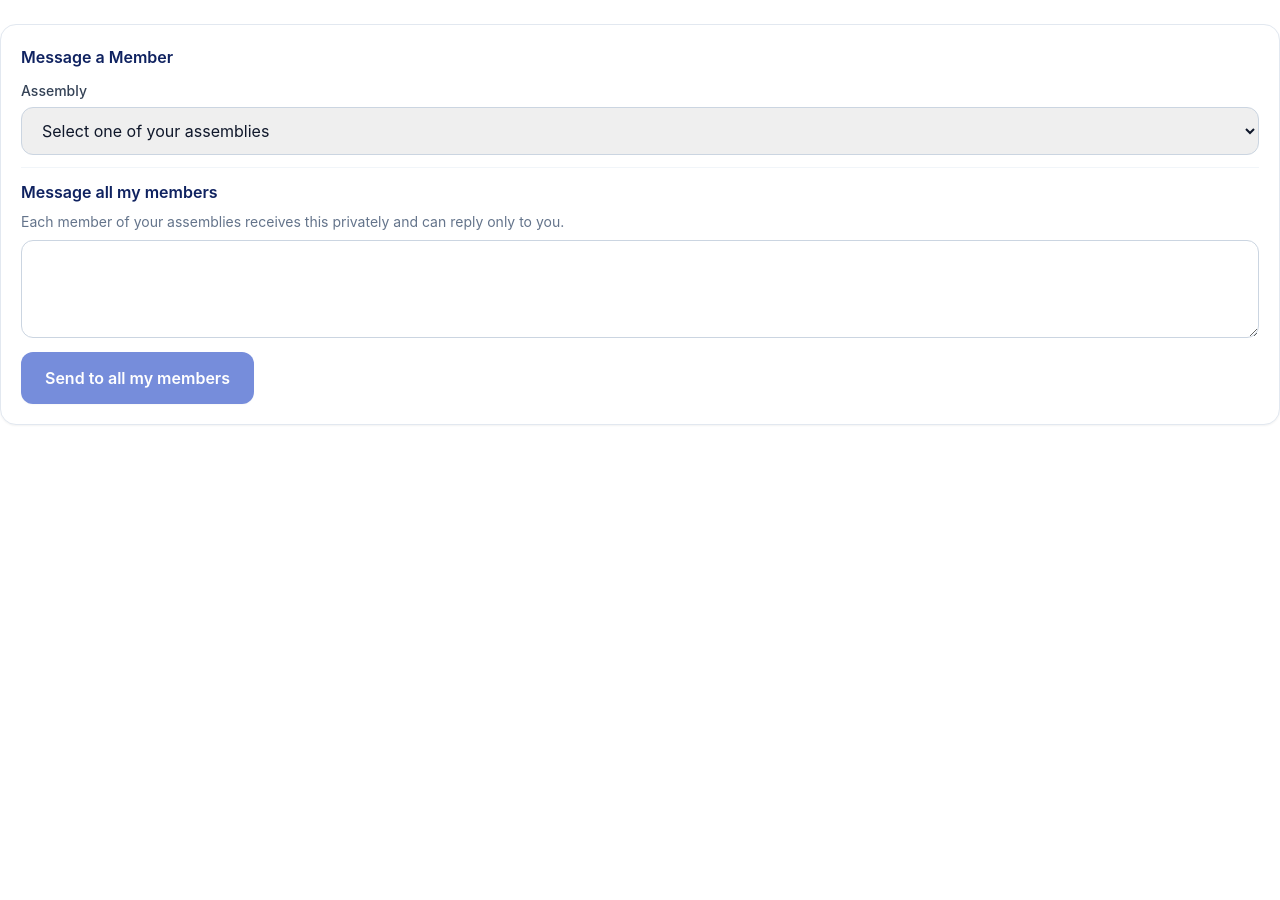
StartPrivateMessage (Leader compose action) › sends the message to the selected recipient via /api/leader/private-messages/conversations
This screenshot has width=1280, height=900.
Later steps or results of the test are not shown.
Select "Youth Ministry" in the dropdown at {"x": 640, "y": 131}, box [21, 107, 1259, 155]
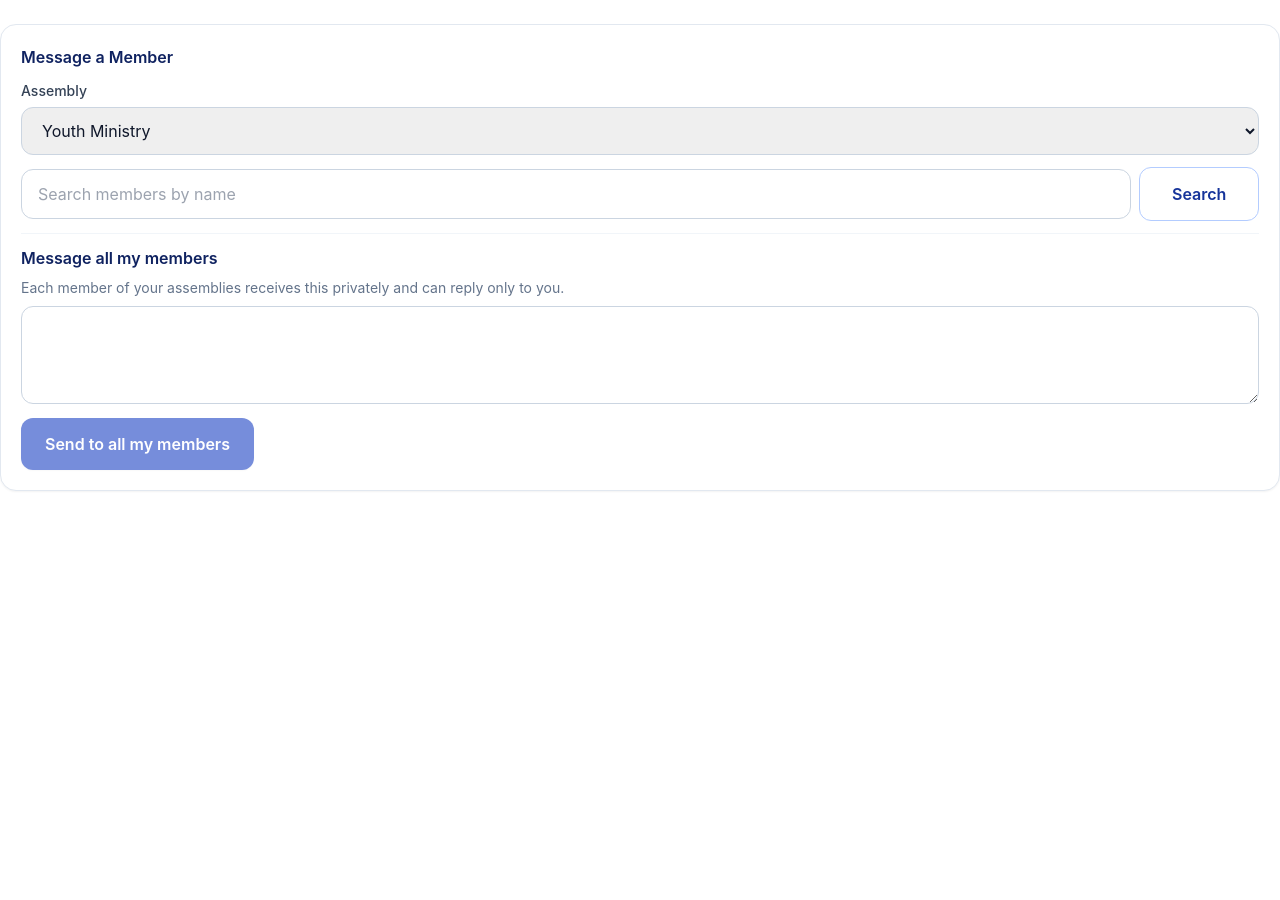
Type "Grace" into the field with placeholder "Search members by name".
click(576, 194); type("Grace")  # box [21, 169, 1131, 219]
Click the button "Search".
click(1199, 194)  # box [1139, 167, 1259, 221]
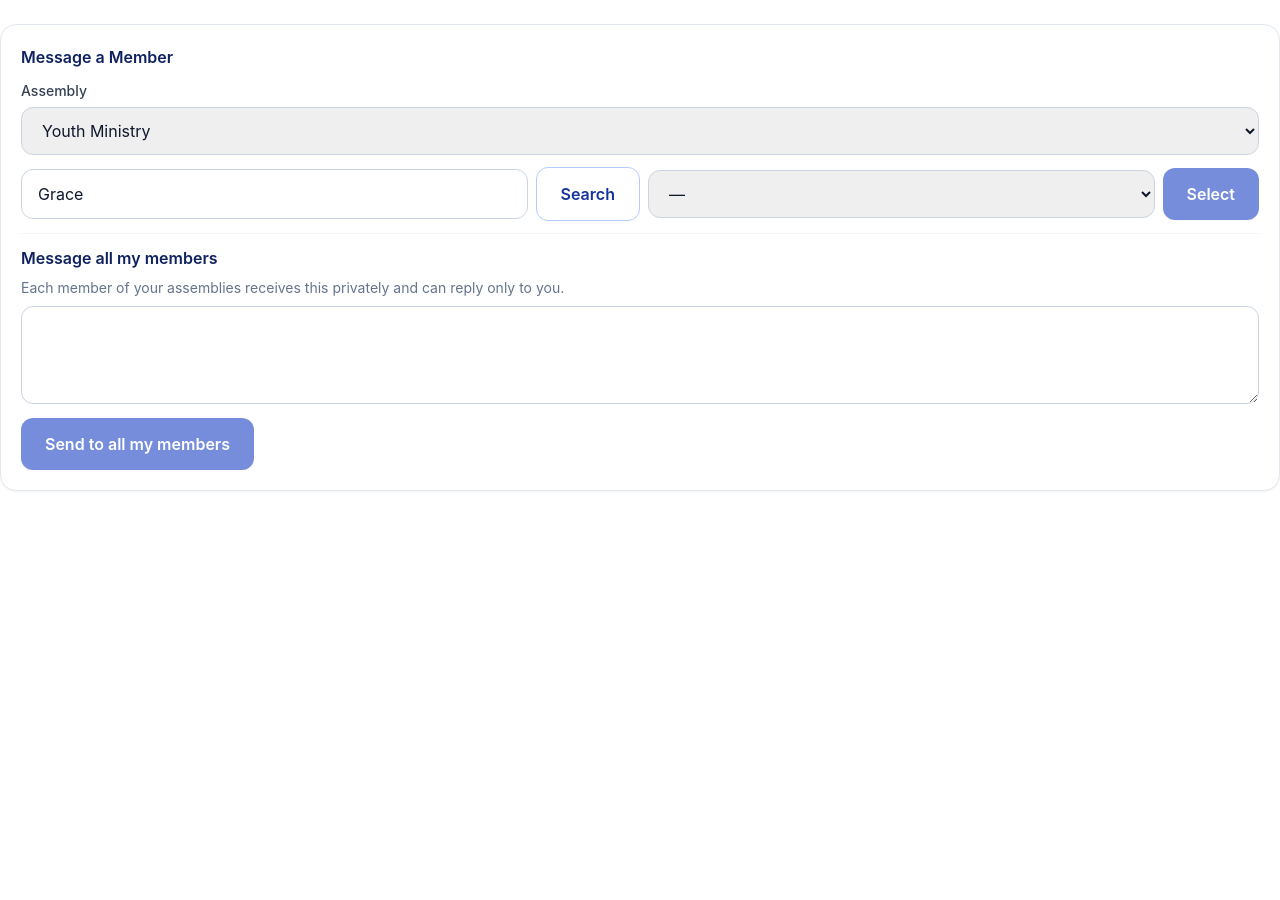
Now the number of dropdowns is 2
Select "Grace Doe" in the 2nd dropdown at {"x": 901, "y": 194}, box [648, 170, 1154, 218]
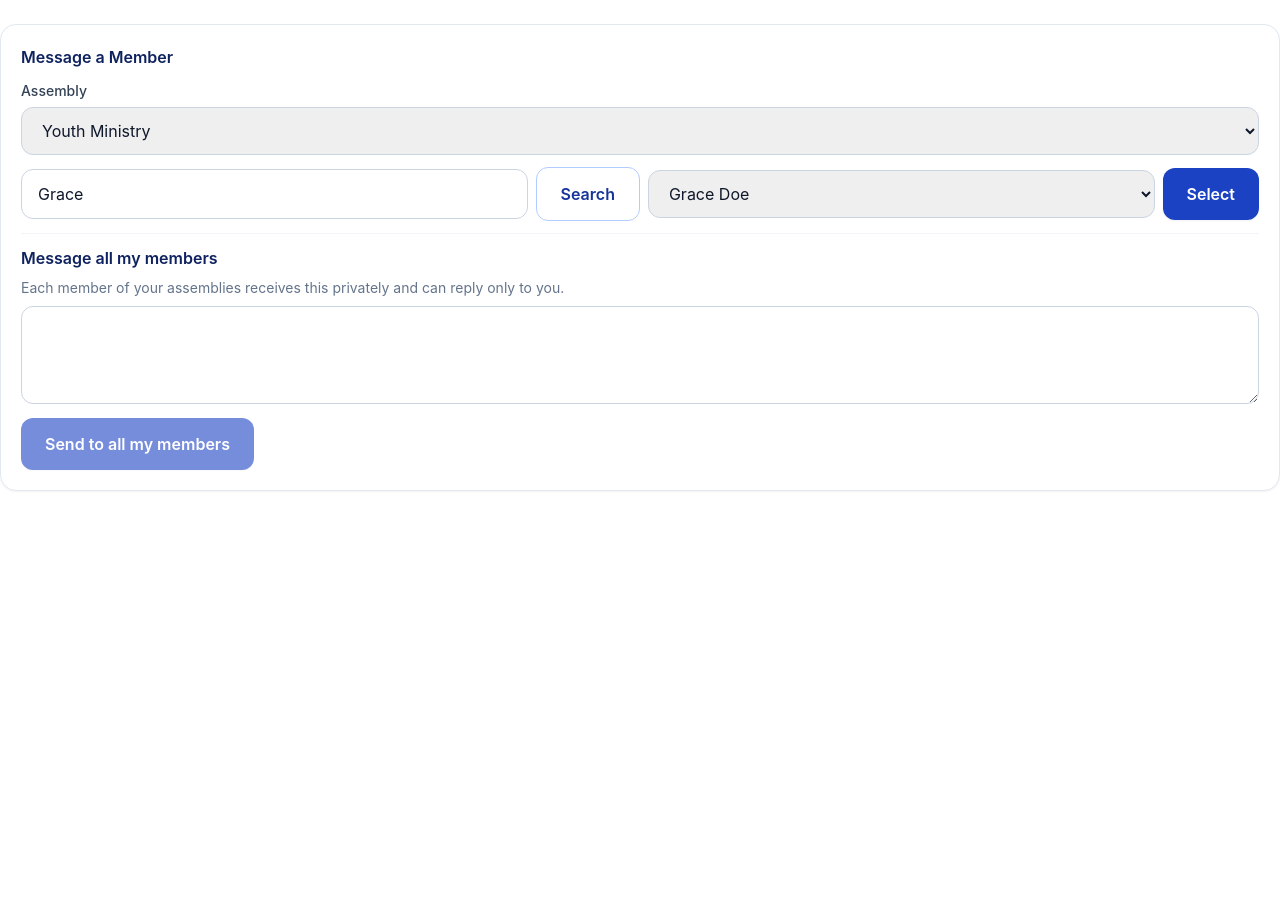
Click the button "Select".
click(1211, 194)  # box [1162, 168, 1259, 220]
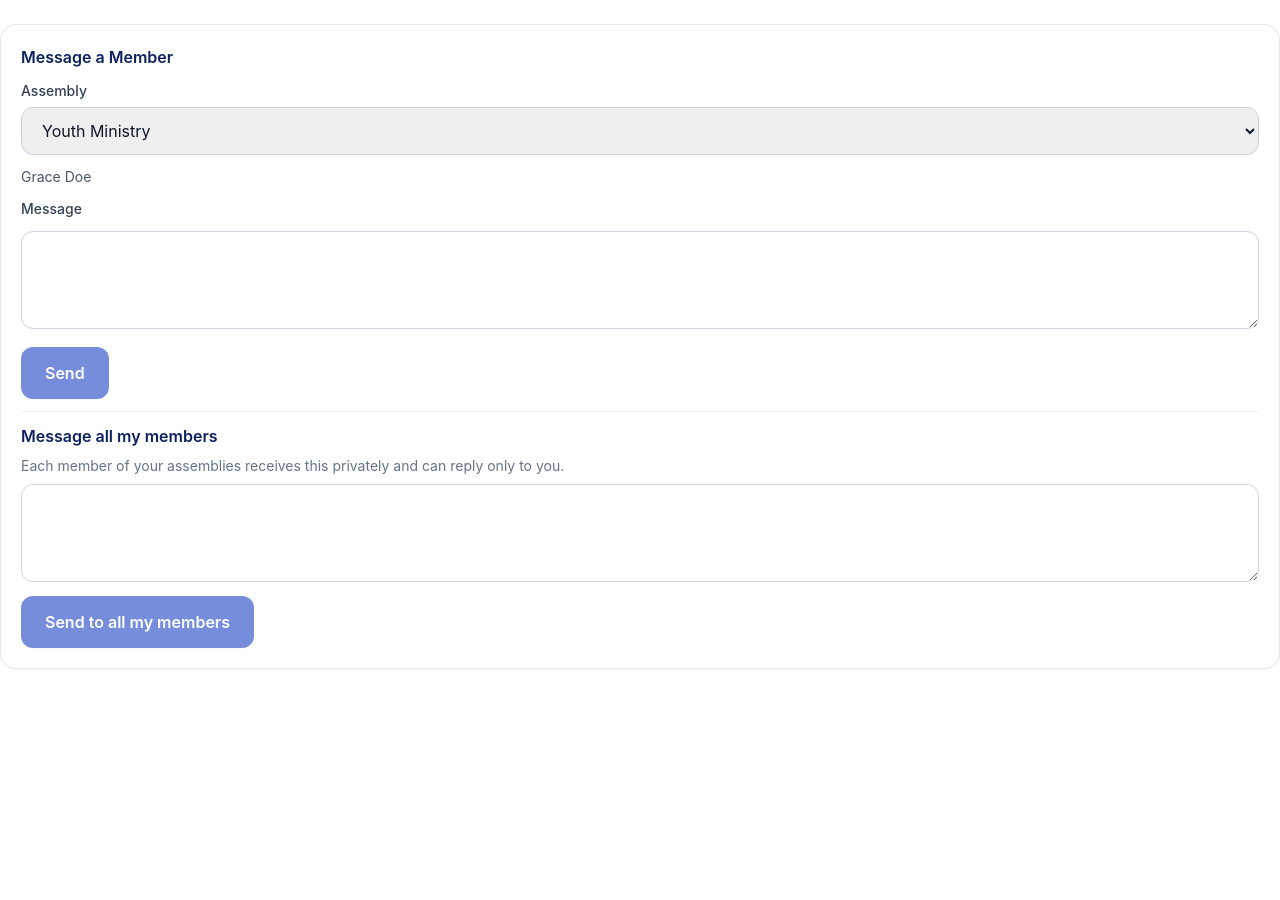
Now the text "Grace Doe" is shown, box [21, 168, 91, 185]
Type "Hello Grace" into the 1st text box.
click(640, 280); type("Hello Grace")  # box [21, 231, 1259, 329]
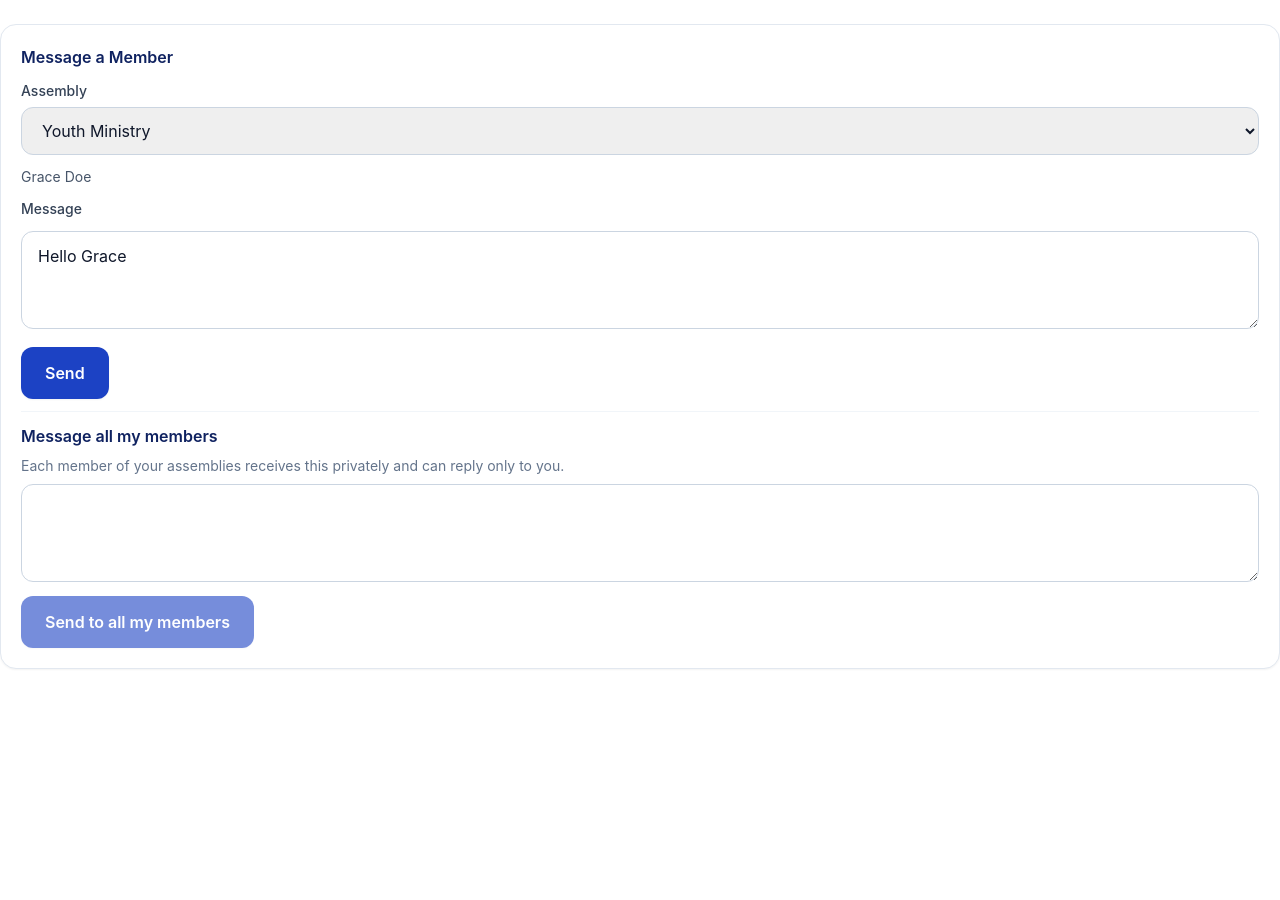
Click the button "Send".
click(65, 373)  # box [21, 347, 109, 399]
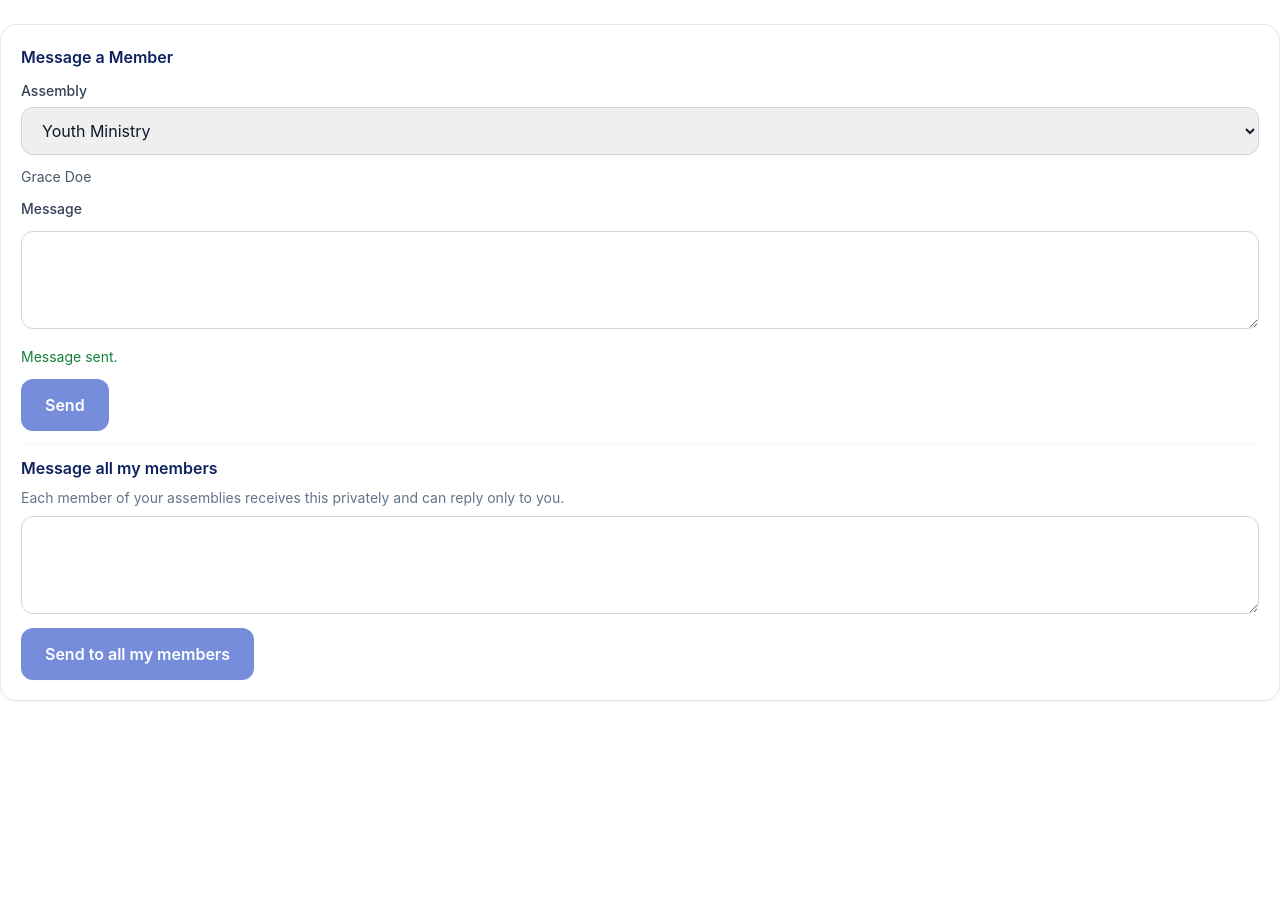
Now the text "Message sent." is shown, box [21, 348, 118, 365]
